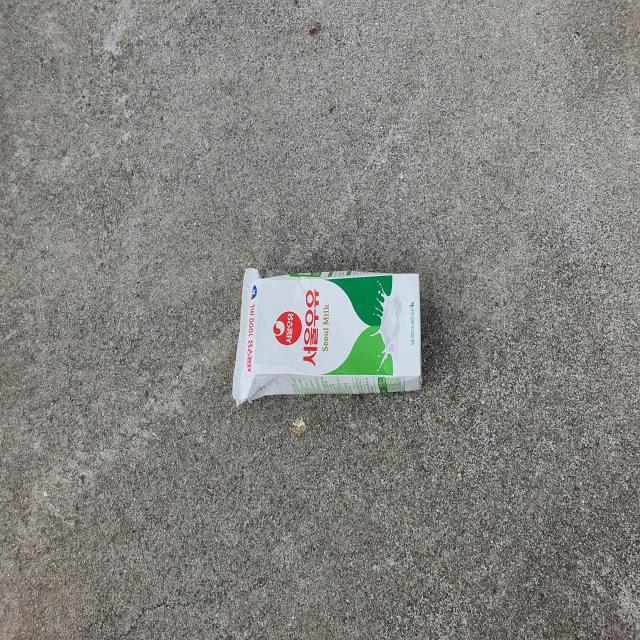paperpack: (232, 269, 422, 403)
